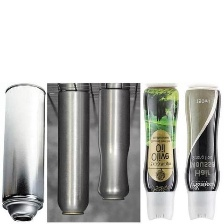aerosol_cans: (1, 81, 46, 223), (140, 83, 179, 222), (183, 86, 222, 221), (53, 88, 93, 218), (95, 85, 132, 203)
